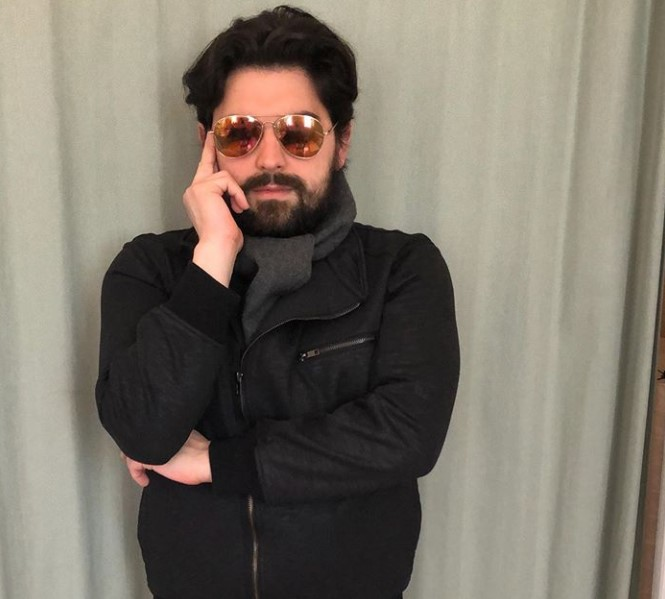face_no_mask: (204, 26, 345, 234)
